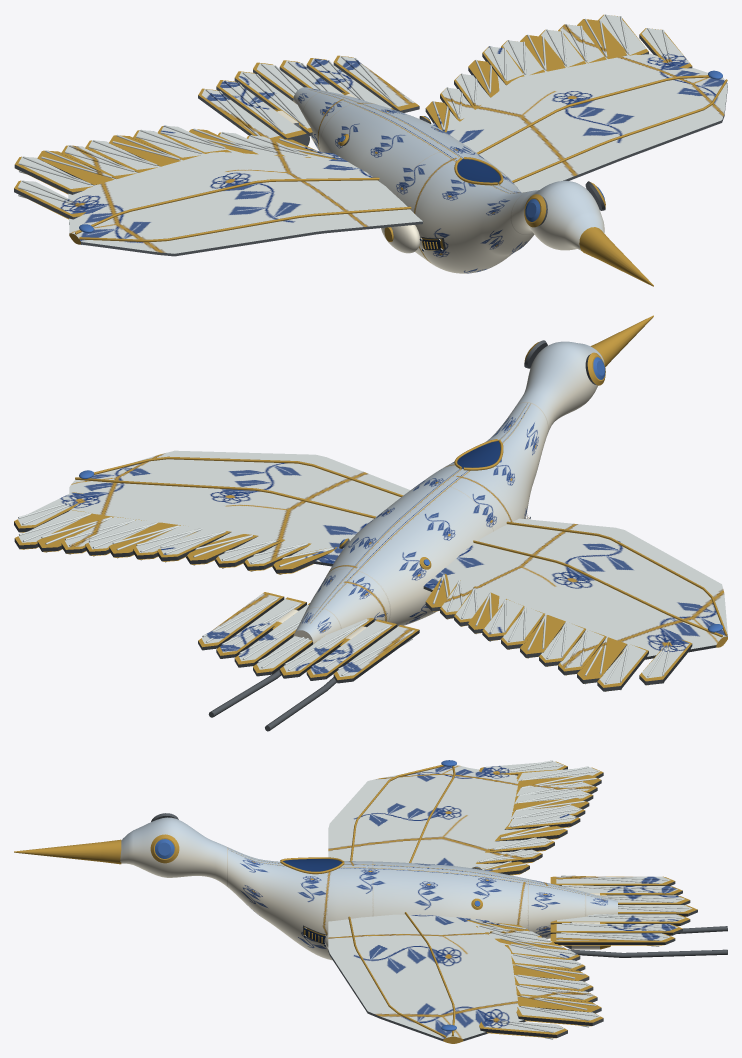
3 renders of one model, top to bottom at view 1: azimuth 30°, elevation 25°; view 2: azimuth 150°, elevation 25°; view 3: azimuth 270°, elevation 25°, orthographic. The views are drawn at different scales.
Parts seen in each view (by area): view 1: egret_hull; view 2: egret_hull; view 3: egret_hull.
Part boxes in pixels (left/top/right/bottom): egret_hull: left=14, top=14, right=727, bottom=286; egret_hull: left=14, top=315, right=727, bottom=731; egret_hull: left=14, top=760, right=727, bottom=1043.
Size of the model in its own units: 57.92 by 13.46 by 64.
1 material, 1 textured.
